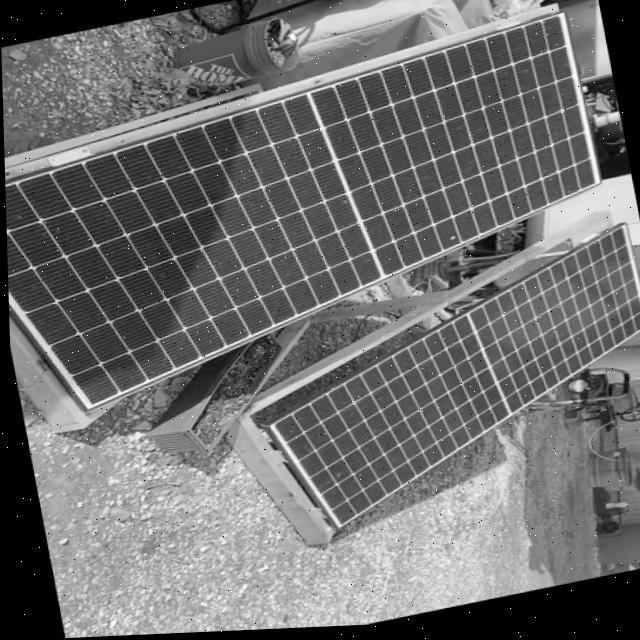Normal Solar Panel: (1, 16, 623, 419), (244, 230, 640, 540)
